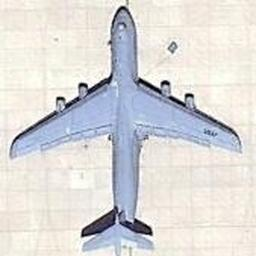Airplane: (11, 8, 243, 252)
